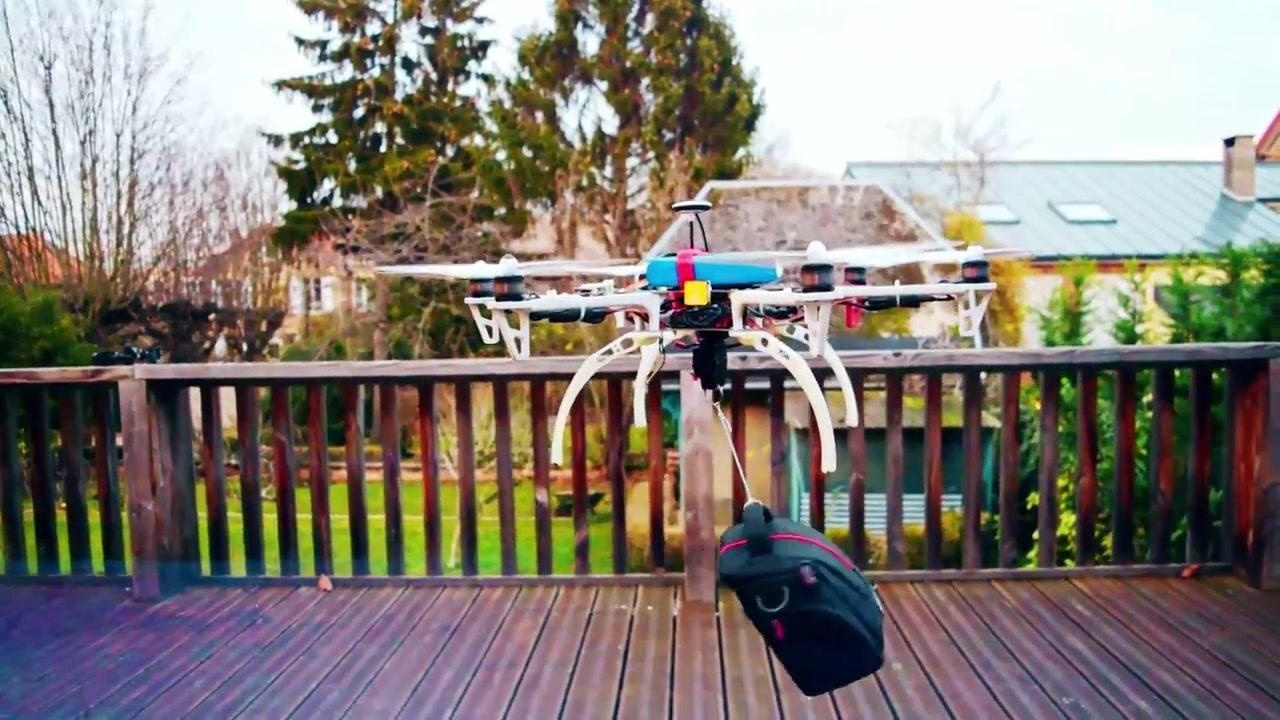UAV: (372, 201, 1020, 475)
